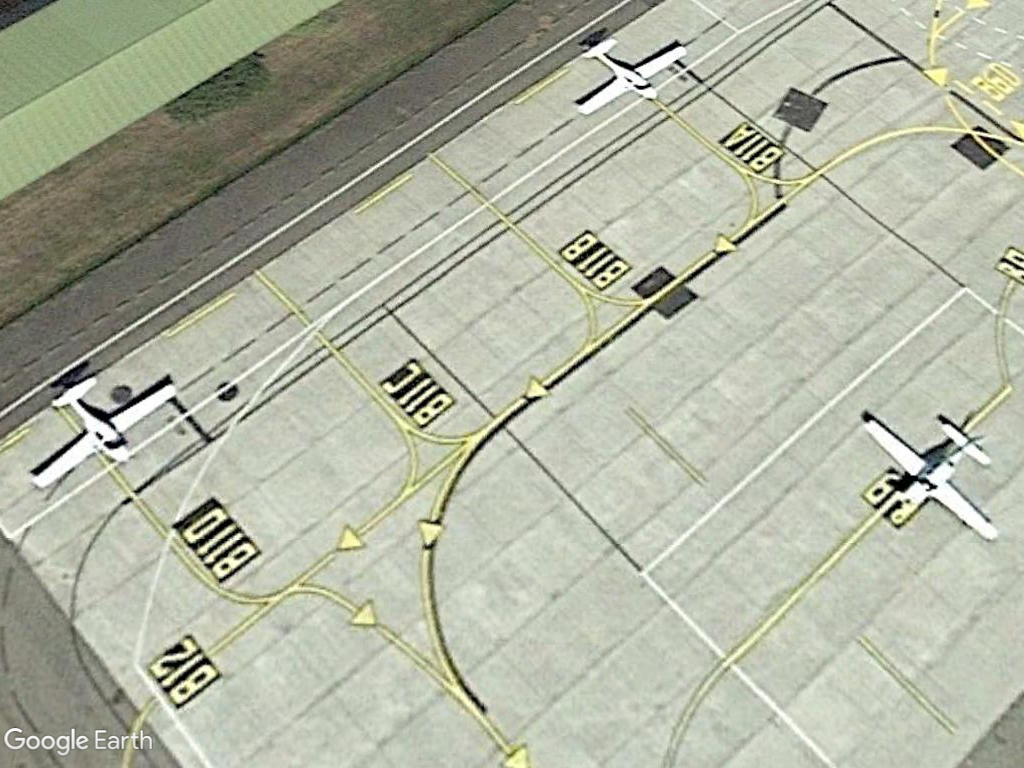trainer: (855, 406, 1002, 547), (26, 368, 182, 490), (566, 37, 690, 116)
